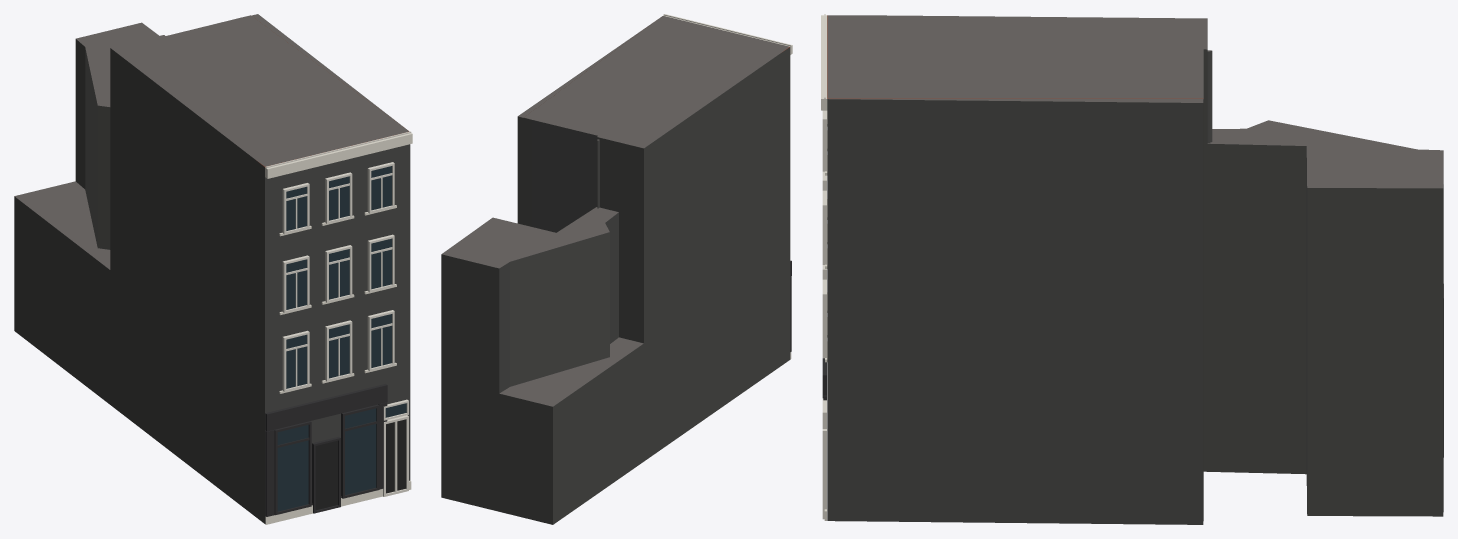
The picture shows the model from 3 angles, left to right: view 1: azimuth 30°, elevation 25°; view 2: azimuth 150°, elevation 25°; view 3: azimuth 270°, elevation 25°; orthographic projection. The views are drawn at different scales.
Parts seen in each view (by area): view 1: spec-0363100012165073; view 2: spec-0363100012165073; view 3: spec-0363100012165073.
Boxes of the visible parts, <box> form: spec-0363100012165073: <box>14,14,412,524</box>; spec-0363100012165073: <box>441,14,792,524</box>; spec-0363100012165073: <box>821,14,1443,524</box>.
Bounding box in the file's own units: 5.75 × 12.95 × 17.26.
